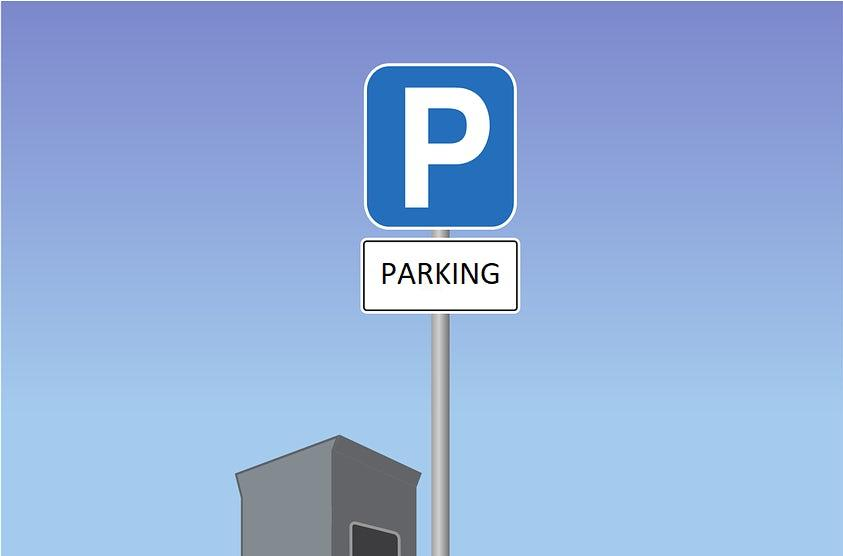parking: (366, 64, 517, 228)
